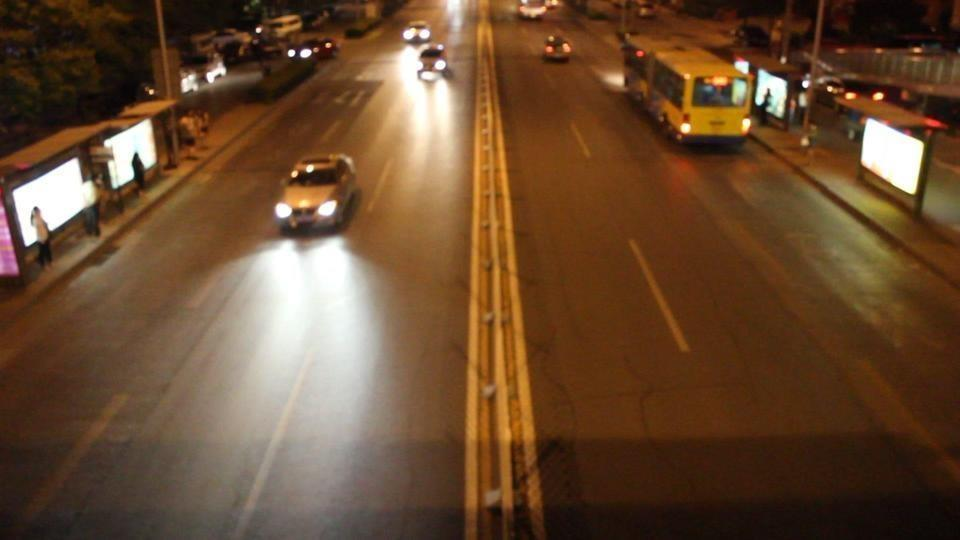car: (273, 152, 361, 235), (179, 48, 226, 90), (211, 31, 259, 66), (287, 35, 341, 63), (258, 13, 303, 41), (418, 43, 449, 79), (733, 23, 771, 49), (541, 34, 573, 63), (517, 0, 550, 21), (401, 22, 431, 44)
